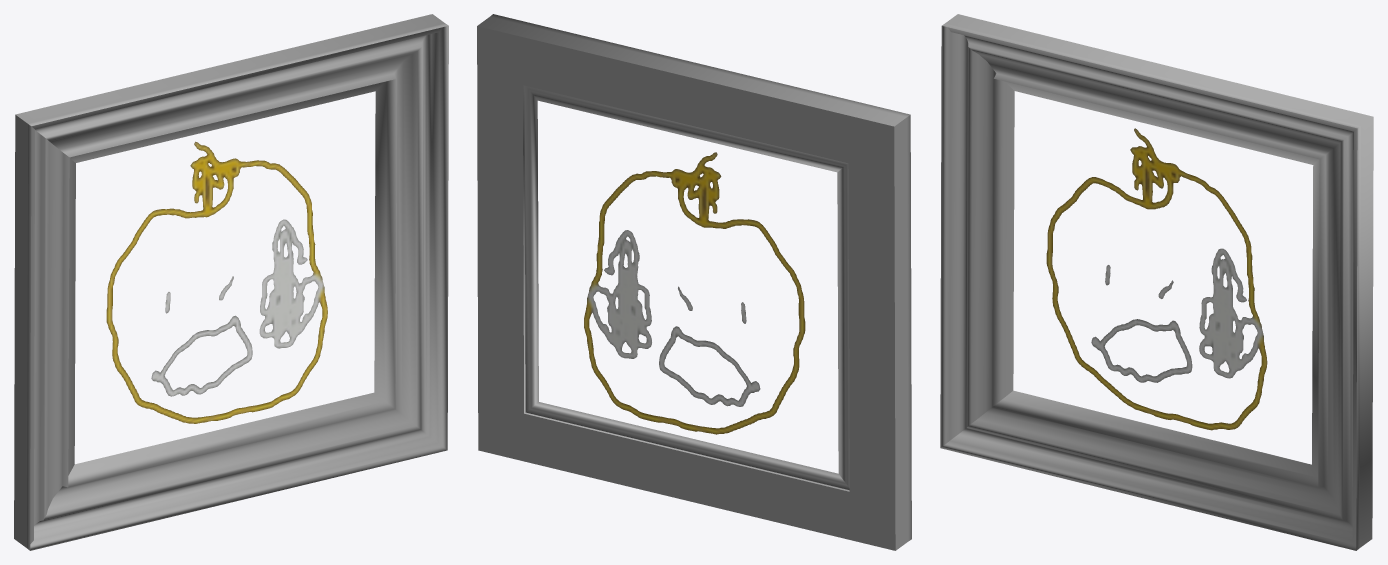
File: tombest.fbx
3 renders of one model, left to right at view 1: azimuth 30°, elevation 25°; view 2: azimuth 150°, elevation 25°; view 3: azimuth 330°, elevation 25°, orthographic.
Visible parts, largest first — view 1: pasted__pasted__loftedSurface7, pPlane1; view 2: pasted__pasted__loftedSurface7, pPlane1; view 3: pasted__pasted__loftedSurface7, pPlane1.
Part boxes in pixels (x1=…): pasted__pasted__loftedSurface7: x1=14, y1=14, x2=448, y2=550; pPlane1: x1=106, y1=141, x2=327, y2=423; pasted__pasted__loftedSurface7: x1=477, y1=14, x2=911, y2=550; pPlane1: x1=584, y1=152, x2=805, y2=434; pasted__pasted__loftedSurface7: x1=940, y1=14, x2=1373, y2=550; pPlane1: x1=1046, y1=128, x2=1267, y2=430.
Size of the model in its own units: 21.11 by 20.51 by 1.42.
